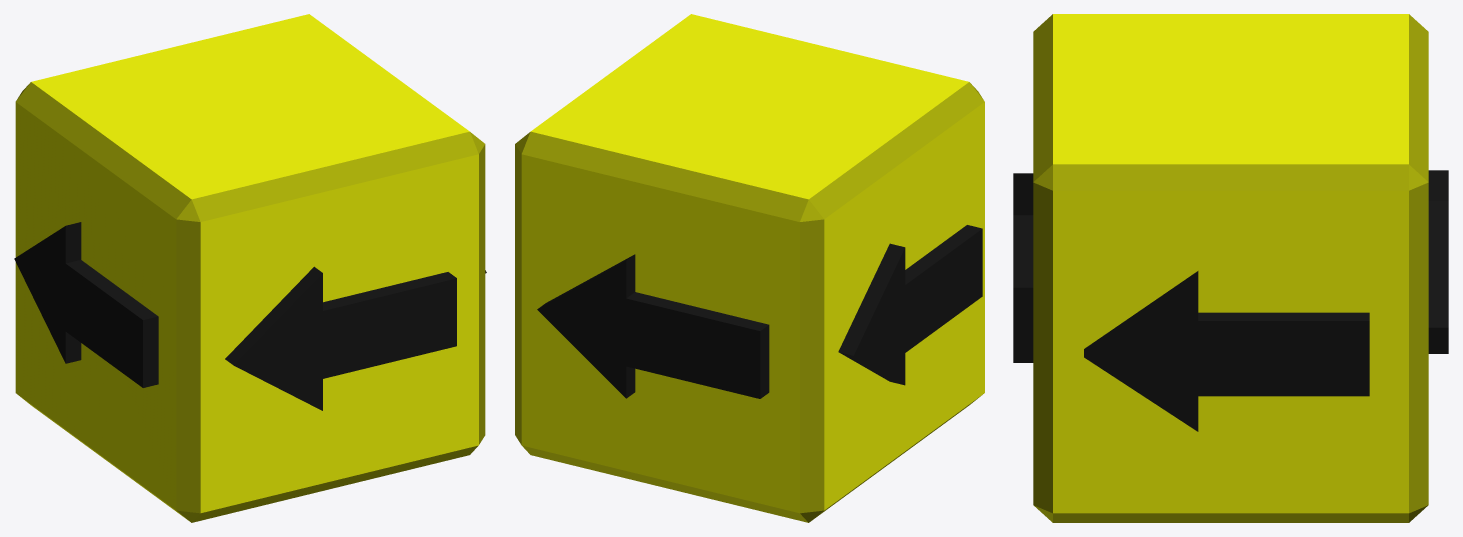
The model's file is 03-left-block.glb.
3 views of the same model, side by side, from view 1: azimuth 30°, elevation 25°; view 2: azimuth 150°, elevation 25°; view 3: azimuth 270°, elevation 25° (orthographic). The views are drawn at different scales.
Parts seen in each view (by area): view 1: 03-left-block; view 2: 03-left-block; view 3: 03-left-block.
Boxes of the visible parts, x1,y1,x2,y2 form: 03-left-block: (14, 14, 486, 522); 03-left-block: (515, 14, 984, 522); 03-left-block: (1013, 14, 1448, 522).
Bounding box in the file's own units: 2.2 × 2 × 2.2.
